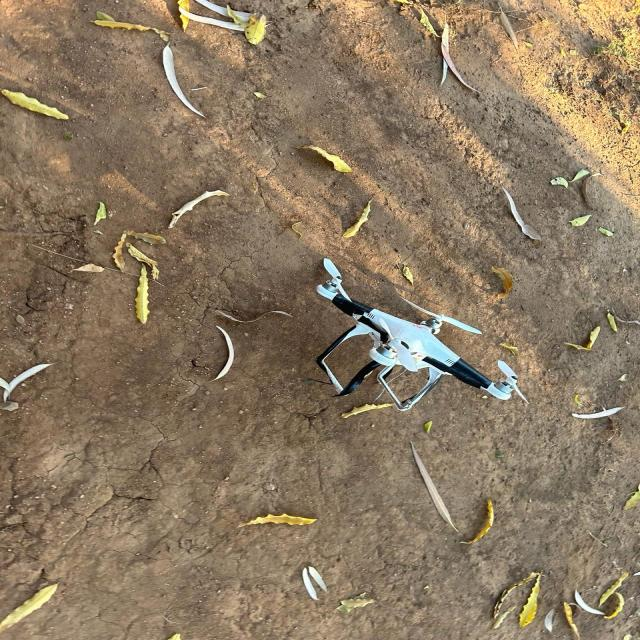drone: (292, 244, 532, 419)
